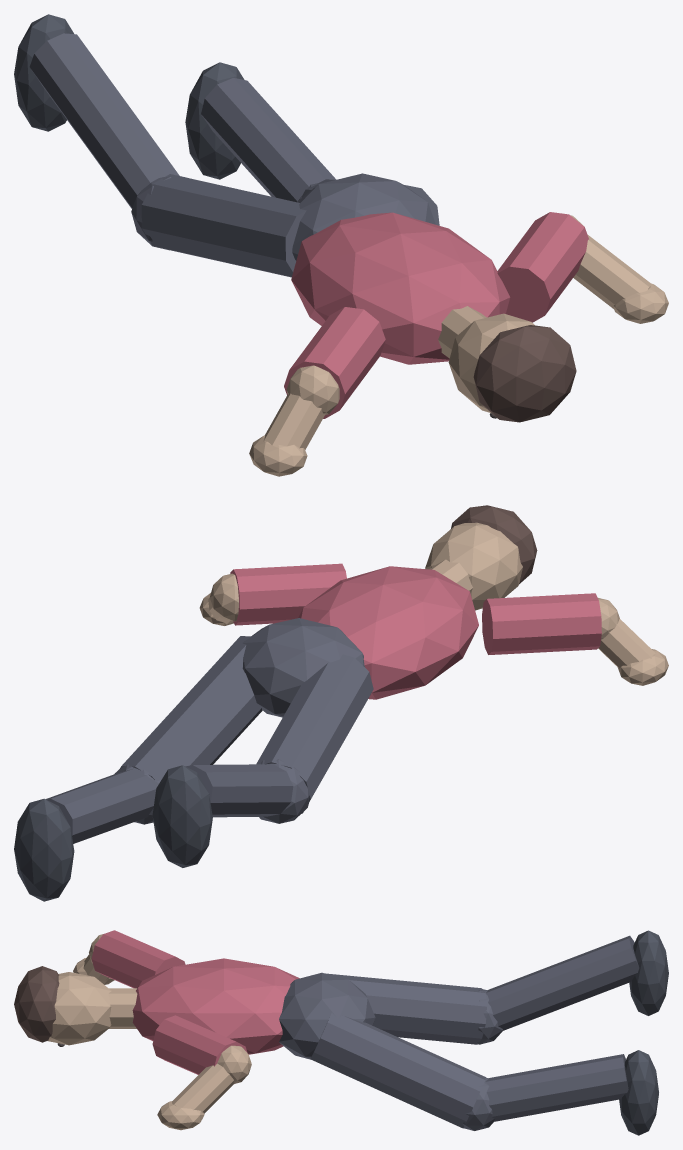
3 views of the same model, one above another, from view 1: azimuth 30°, elevation 25°; view 2: azimuth 150°, elevation 25°; view 3: azimuth 270°, elevation 25° (orthographic). The views are drawn at different scales.
Visible parts, largest first — view 1: world; view 2: world; view 3: world.
Boxes of the visible parts, x1,y1,x2,y2 form: world: (14,14,668,476); world: (14,505,668,901); world: (14,930,668,1135).
Size of the model in its own units: 1.25 by 0.5125 by 2.07.
